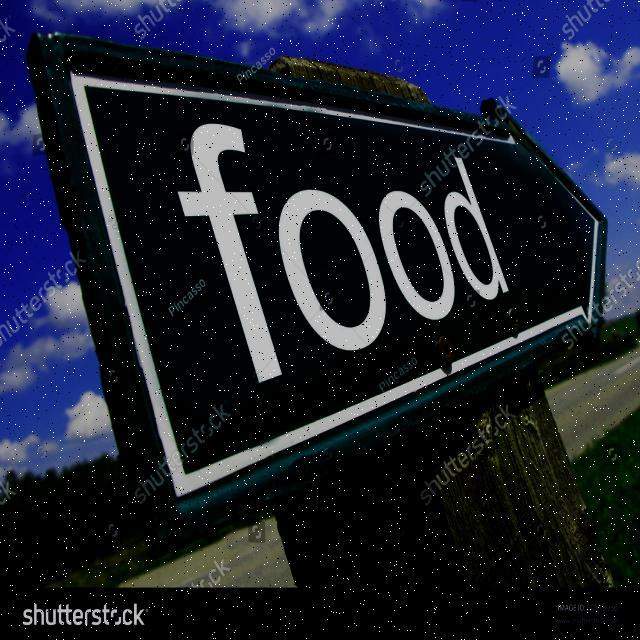Traffic sign: (22, 26, 613, 536)
